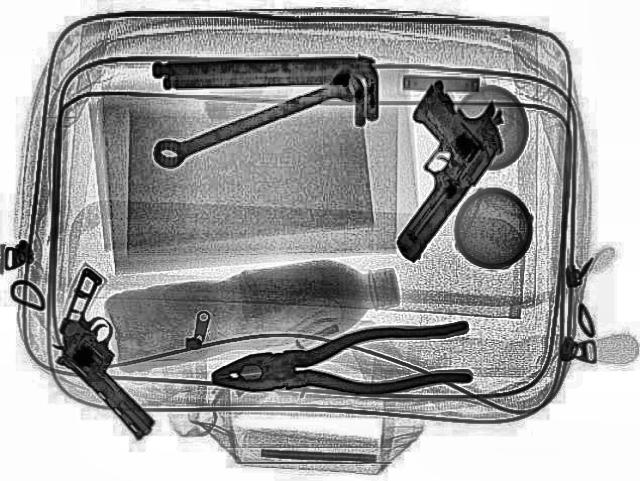Gun: (318, 75, 532, 261), (22, 266, 166, 448)
Pliers: (204, 318, 478, 410)
Wrench: (143, 64, 380, 170)
